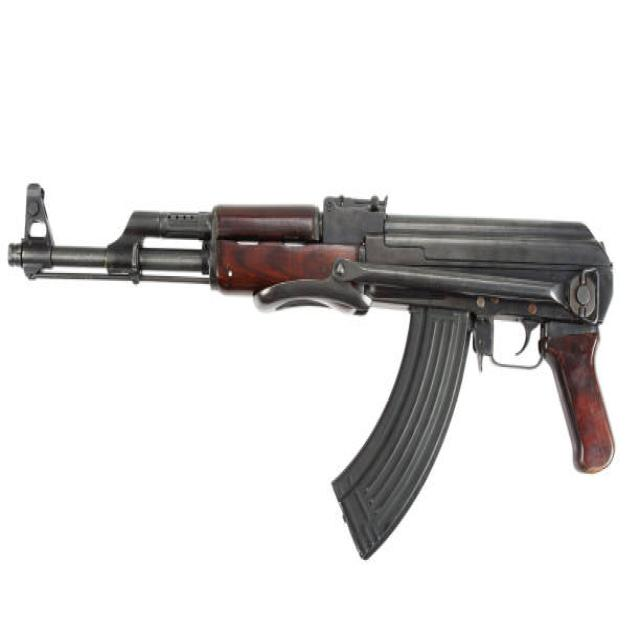rifle: (4, 164, 628, 567)
